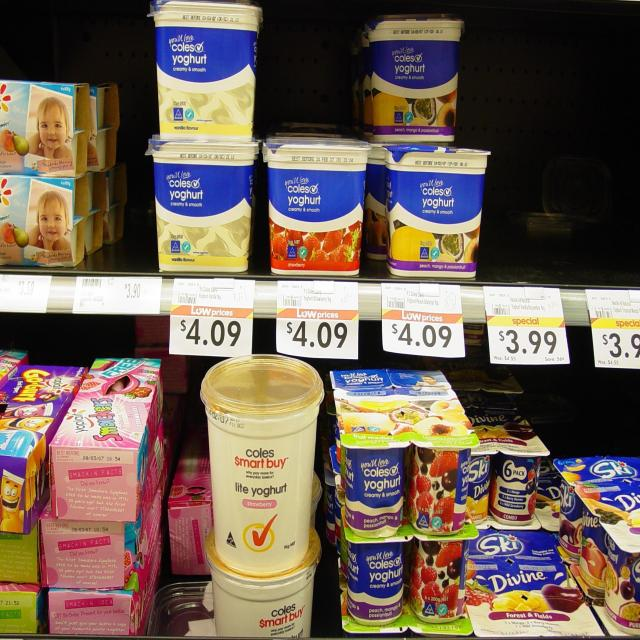void: (491, 20, 639, 280), (262, 4, 358, 136), (0, 6, 145, 86), (541, 366, 637, 449)
